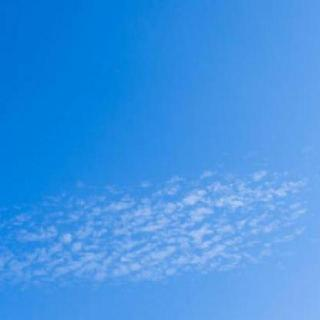Cirrocumulus: (0, 20, 320, 320)
